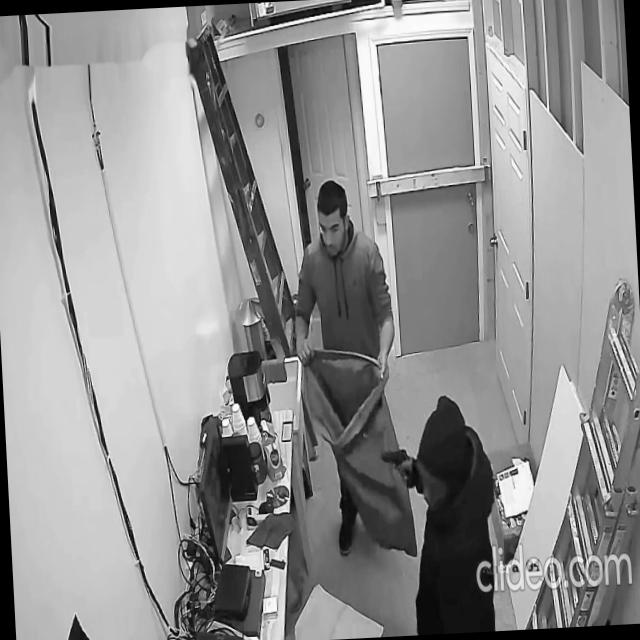gun: (380, 444, 410, 478)
person: (286, 176, 408, 557)
person with a gun: (378, 390, 503, 637)
